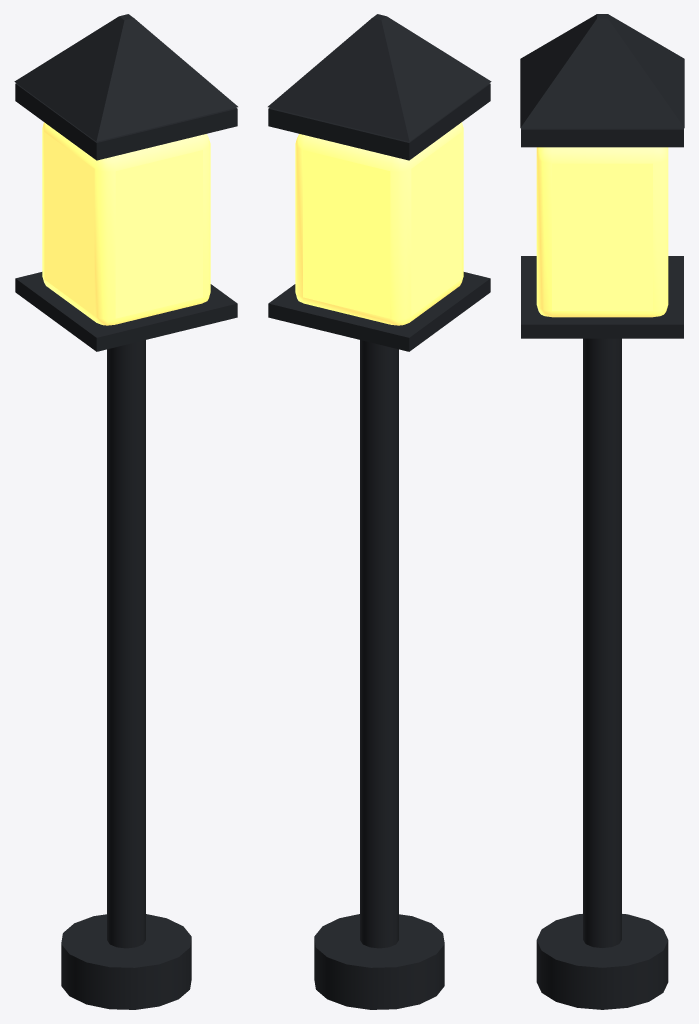
File: lamp.glb
3 renders of one model, left to right at view 1: azimuth 30°, elevation 25°; view 2: azimuth 150°, elevation 25°; view 3: azimuth 270°, elevation 25°, orthographic.
Parts seen in each view (by area): view 1: Cage, Pole, Cap, Base, Foot, CapBox; view 2: Cage, Pole, Cap, Base, Foot, CapBox; view 3: Pole, Cage, Cap, Base, Foot, CapBox.
Boxes of the visible parts, bbox=[...] form: Cage: bbox=[42, 122, 210, 325]; Pole: bbox=[107, 340, 145, 948]; Cap: bbox=[14, 14, 237, 141]; Base: bbox=[61, 914, 191, 1009]; Foot: bbox=[15, 272, 237, 351]; CapBox: bbox=[15, 83, 237, 160]; Cage: bbox=[295, 122, 463, 325]; Pole: bbox=[360, 340, 398, 948]; Cap: bbox=[268, 14, 491, 141]; Base: bbox=[314, 914, 444, 1009]; Foot: bbox=[268, 272, 490, 351]; CapBox: bbox=[268, 83, 490, 160]; Pole: bbox=[583, 338, 621, 947]; Cage: bbox=[536, 147, 668, 317]; Cap: bbox=[520, 14, 684, 128]; Base: bbox=[536, 914, 668, 1009]; Foot: bbox=[521, 256, 683, 338]; CapBox: bbox=[521, 128, 683, 147].
Bounding box in the file's own units: 0.4243 × 2.75 × 0.4243.
